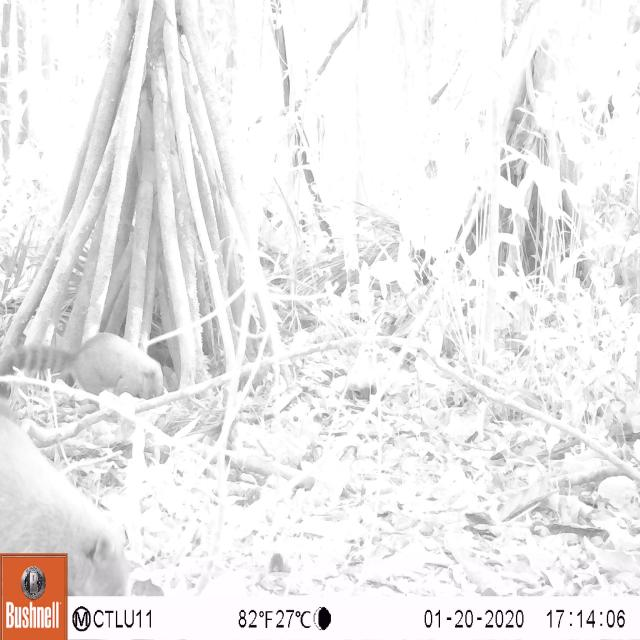South American Coati: (0, 412, 131, 598), (0, 330, 185, 418)
